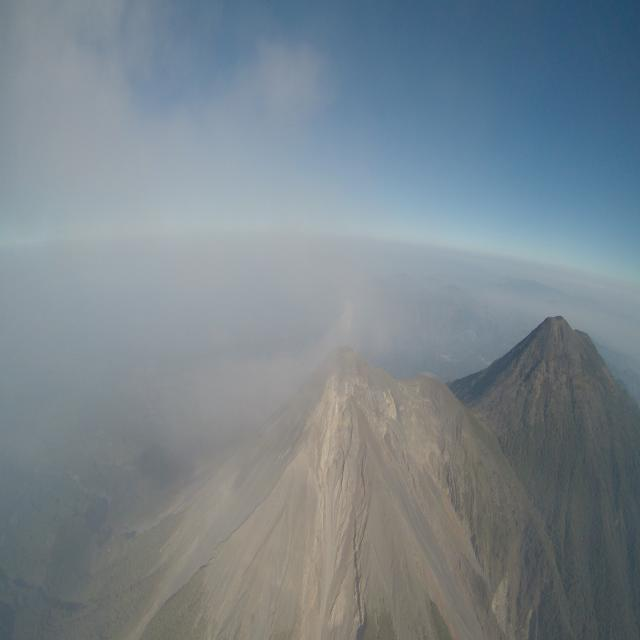Plume: (0, 0, 315, 262), (336, 296, 354, 346)
Summit: (286, 344, 398, 441)
